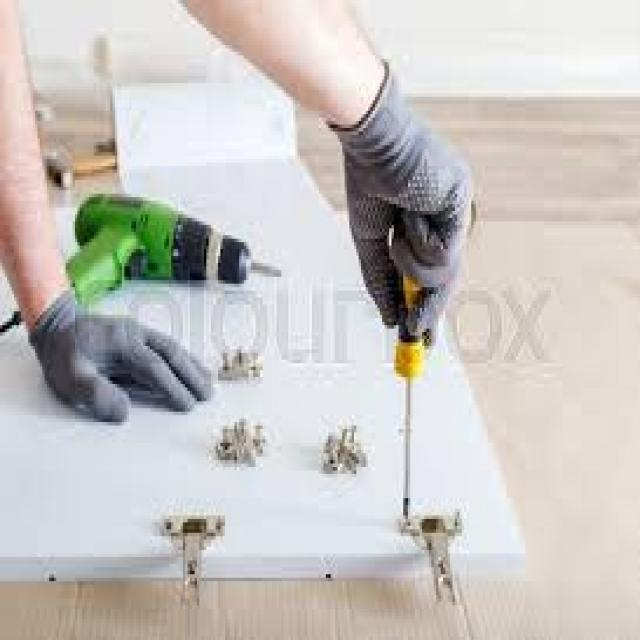screwdriver: (390, 242, 432, 529)
